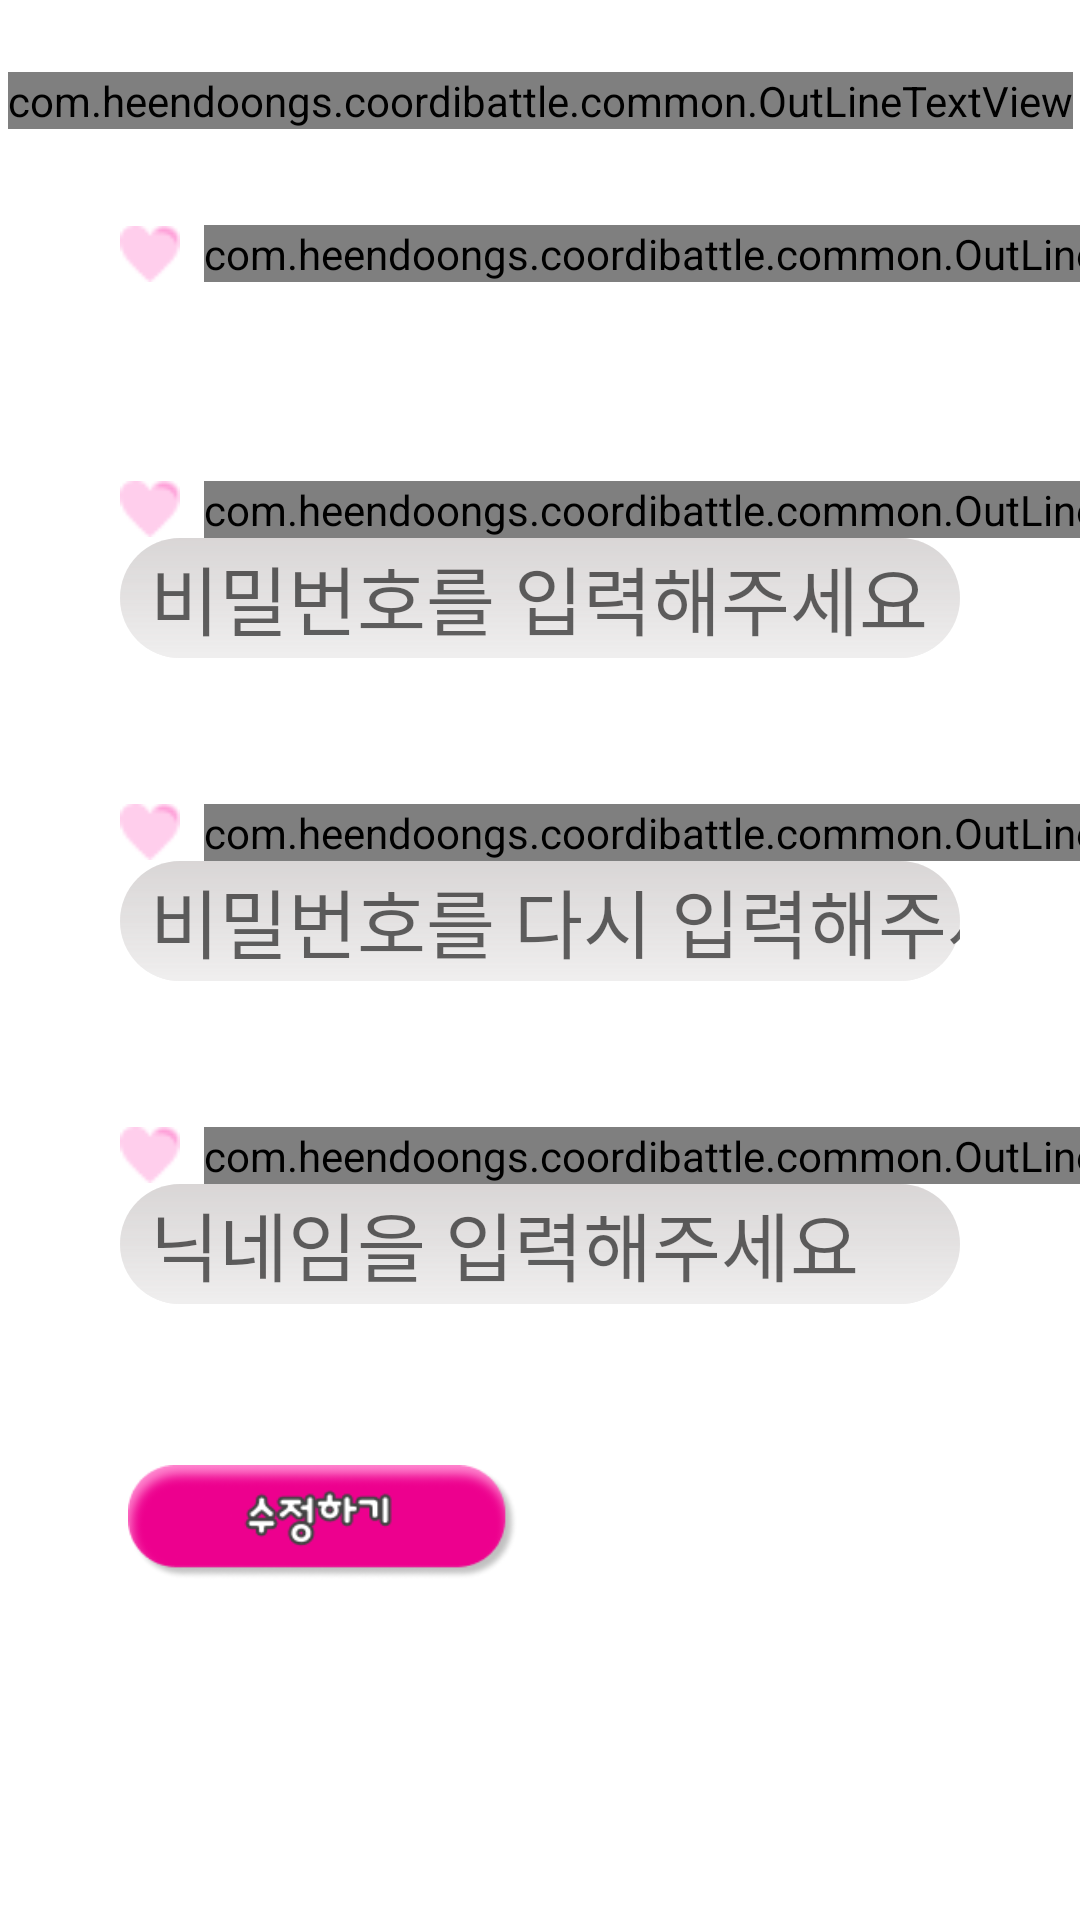

Locate icon controls on the screen. Image size 1080×1920, boxes as bbox(x1, y1, x2, y2).
heart: bbox(120, 226, 180, 282), bbox(120, 481, 180, 537), bbox(120, 804, 180, 860), bbox(120, 1127, 180, 1183)
